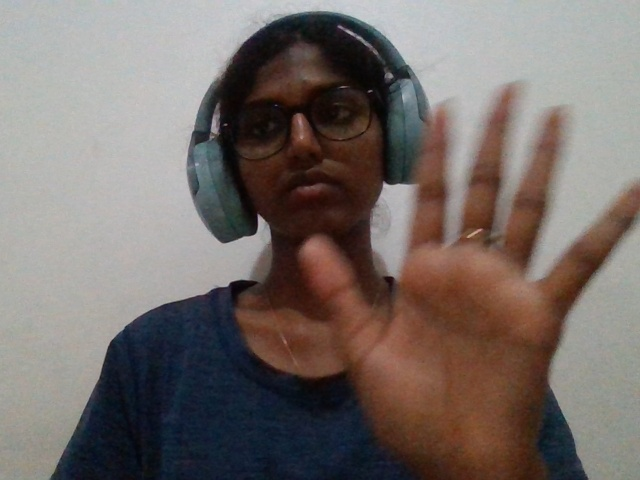Bye: (293, 73, 640, 467)
